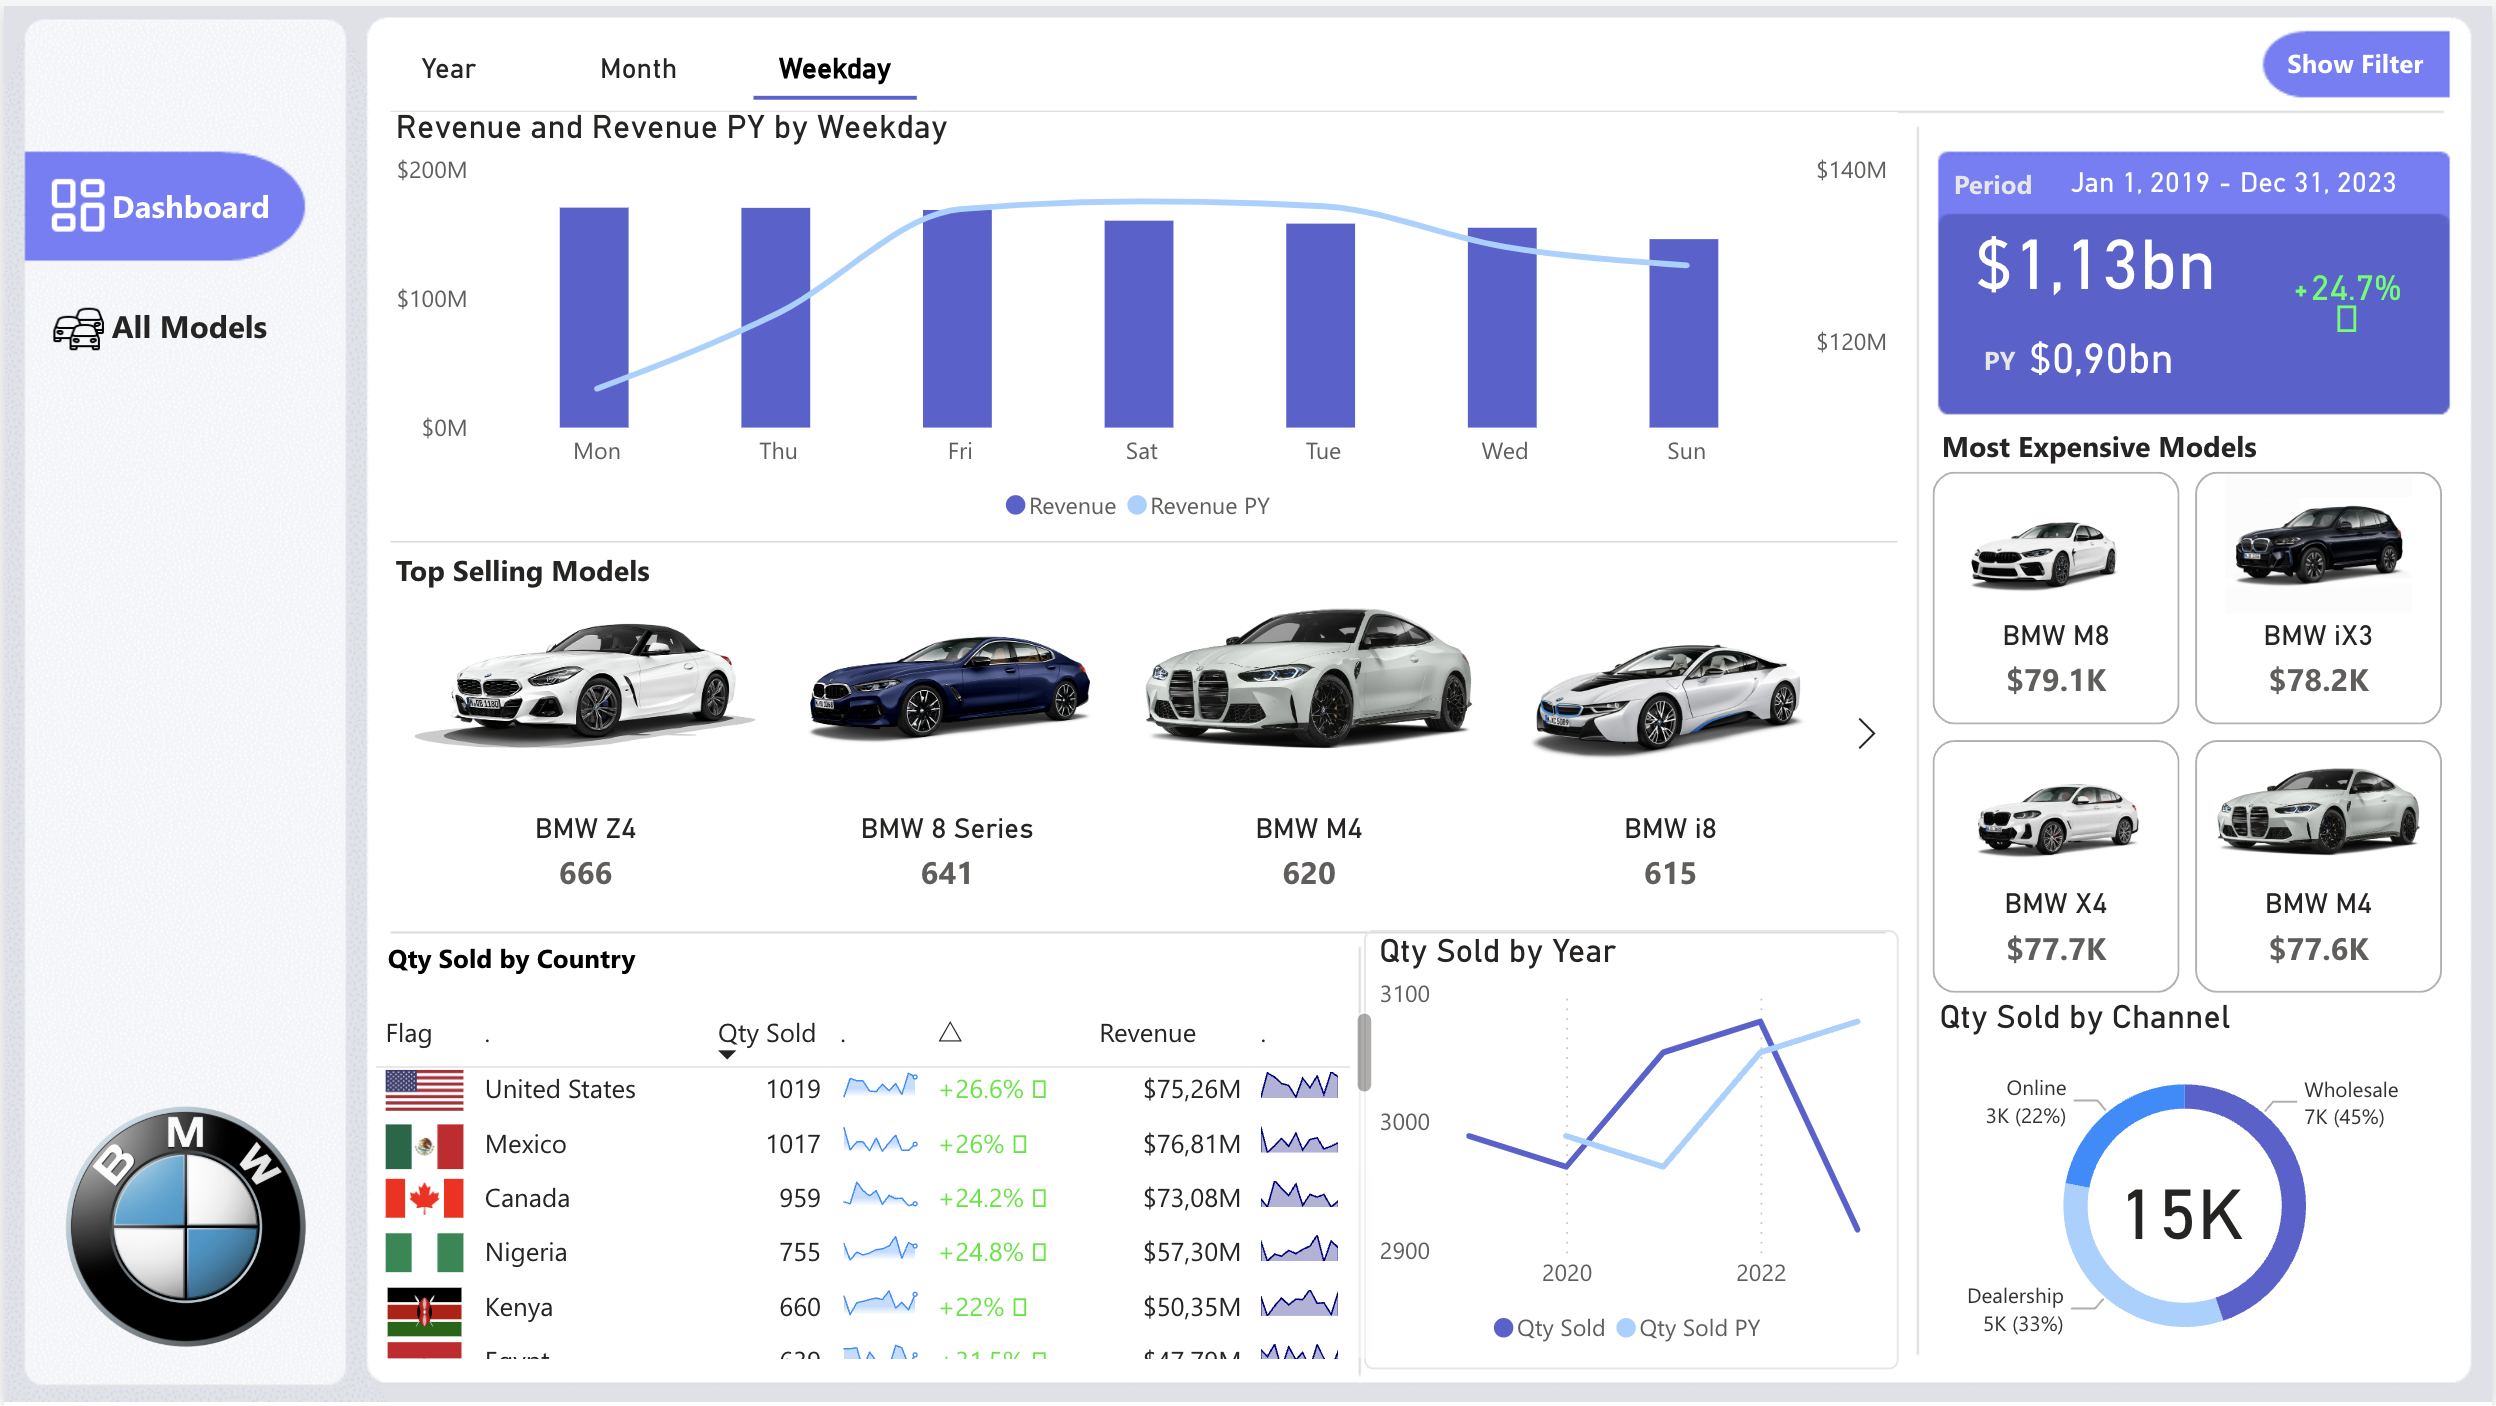

This screenshot's page, from the dashboard's own definition file:
{"tool":"powerbi","page":{"name":"Dashboard","canvas":[1280,720],"ordinal":0},"visuals":[{"type":"lineClusteredColumnComboChart","fields":{"Category":["Calendar.Weekday"],"Y":["All Measures.Revenue"],"Y2":["All Measures.Revenue PY"]},"box":[196.4,54.3,777.5,220.3],"z":0},{"type":"advancedSlicerVisual","fields":{"Values":["PeriodSlicer.PeriodSlicer"]},"box":[196.2,6.9,279.9,46.7],"z":1000},{"type":"card","fields":{"Values":["All Measures.Revenue"]},"box":[1007.3,103.8,137.3,51.1],"z":2000},{"type":"card","fields":{"Values":["All Measures.Revenue PY"]},"box":[1022.3,155.2,112.5,50.8],"z":3000},{"type":"textbox","box":[1012.7,167.6,38.4,38.4],"z":4000},{"type":"card","fields":{"Values":["All Measures.Revenue Variance % Arrow"]},"box":[1155.8,129.3,97.4,51.1],"z":5000},{"type":"card","fields":{"Values":["All Measures.Selected Period"]},"box":[1033.3,76.8,226.4,28.8],"z":6000},{"type":"textbox","box":[997.6,76.8,71.4,38.4],"z":7000},{"type":"advancedSlicerVisual","fields":{"Values":["dimModel.Model"]},"box":[185.2,274.6,788.6,199.6],"z":8000},{"type":"textbox","box":[196.4,274.6,150.1,36.7],"z":9000},{"type":"advancedSlicerVisual","fields":{"Values":["dimModel.Model"]},"box":[967.3,234,312.7,278],"z":10000},{"type":"textbox","box":[991.4,210.7,185.2,36.7],"z":11000},{"type":"lineChart","title":"Qty Sold by Year","fields":{"Category":["Calendar.Year"],"Y":["All Measures.Qty Sold","All Measures.Qty Sold PY"]},"box":[699.4,474.9,274.9,225.8],"z":12000},{"type":"donutChart","fields":{"Y":["All Measures.Qty Sold"],"Category":["dimChannel.Channel"]},"box":[991,512,262,194],"z":13000},{"type":"card","fields":{"Values":["All Measures.Qty Sold"]},"box":[1064,586,112,64],"z":14000},{"type":"tableEx","fields":{"Values":["dimCountry.Flag","dimCountry.Country","All Measures.Qty Sold","All Measures.Qty Sold Gradient Sparkline","All Measures.Qty Sold Variance % Arrow","All Measures.Revenue","All Measures.Revenue Sparkline"]},"box":[184.8,512.1,524,188.7],"z":15000},{"type":"textbox","box":[50,86.7,119.2,37.5],"z":17000},{"type":"image","box":[14.2,81.7,47.5,42.5],"z":18000},{"type":"textbox","box":[50,147.9,109,35],"z":19000},{"type":"image","box":[14,147.9,48,36],"z":20000},{"type":"actionButton","box":[11.4,139.3,166.4,54],"z":21000},{"type":"actionButton","box":[1159.2,8.5,100.1,40.7],"z":23000},{"type":"image","box":[27,557,133.7,140.8],"z":24000},{"type":"actionButton","box":[12.3,74.8,166.9,54],"z":27000},{"type":"textbox","box":[192.6,474.9,143.6,30.7],"z":27001}]}

Visuals, with their boxes on the page's 1280x720 design canvas (x1, y1, x2, y2). These are canvas units, not pixel positions in the 2496x1406 screenshot, which may show the page scaled, cropped or inside an application window:
lineClusteredColumnComboChart - Calendar.Weekday x All Measures.Revenue: [196,54,974,275]
advancedSlicerVisual - PeriodSlicer.PeriodSlicer: [196,7,476,54]
card - All Measures.Revenue: [1007,104,1145,155]
card - All Measures.Revenue PY: [1022,155,1135,206]
textbox: [1013,168,1051,206]
card - All Measures.Revenue Variance % Arrow: [1156,129,1253,180]
card - All Measures.Selected Period: [1033,77,1260,106]
textbox: [998,77,1069,115]
advancedSlicerVisual - dimModel.Model: [185,275,974,474]
textbox: [196,275,346,311]
advancedSlicerVisual - dimModel.Model: [967,234,1280,512]
textbox: [991,211,1177,247]
"Qty Sold by Year" lineChart: [699,475,974,701]
donutChart - All Measures.Qty Sold x dimChannel.Channel: [991,512,1253,706]
card - All Measures.Qty Sold: [1064,586,1176,650]
tableEx - dimCountry.Flag x dimCountry.Country: [185,512,709,701]
textbox: [50,87,169,124]
image: [14,82,62,124]
textbox: [50,148,159,183]
image: [14,148,62,184]
actionButton: [11,139,178,193]
actionButton: [1159,8,1259,49]
image: [27,557,161,698]
actionButton: [12,75,179,129]
textbox: [193,475,336,506]
